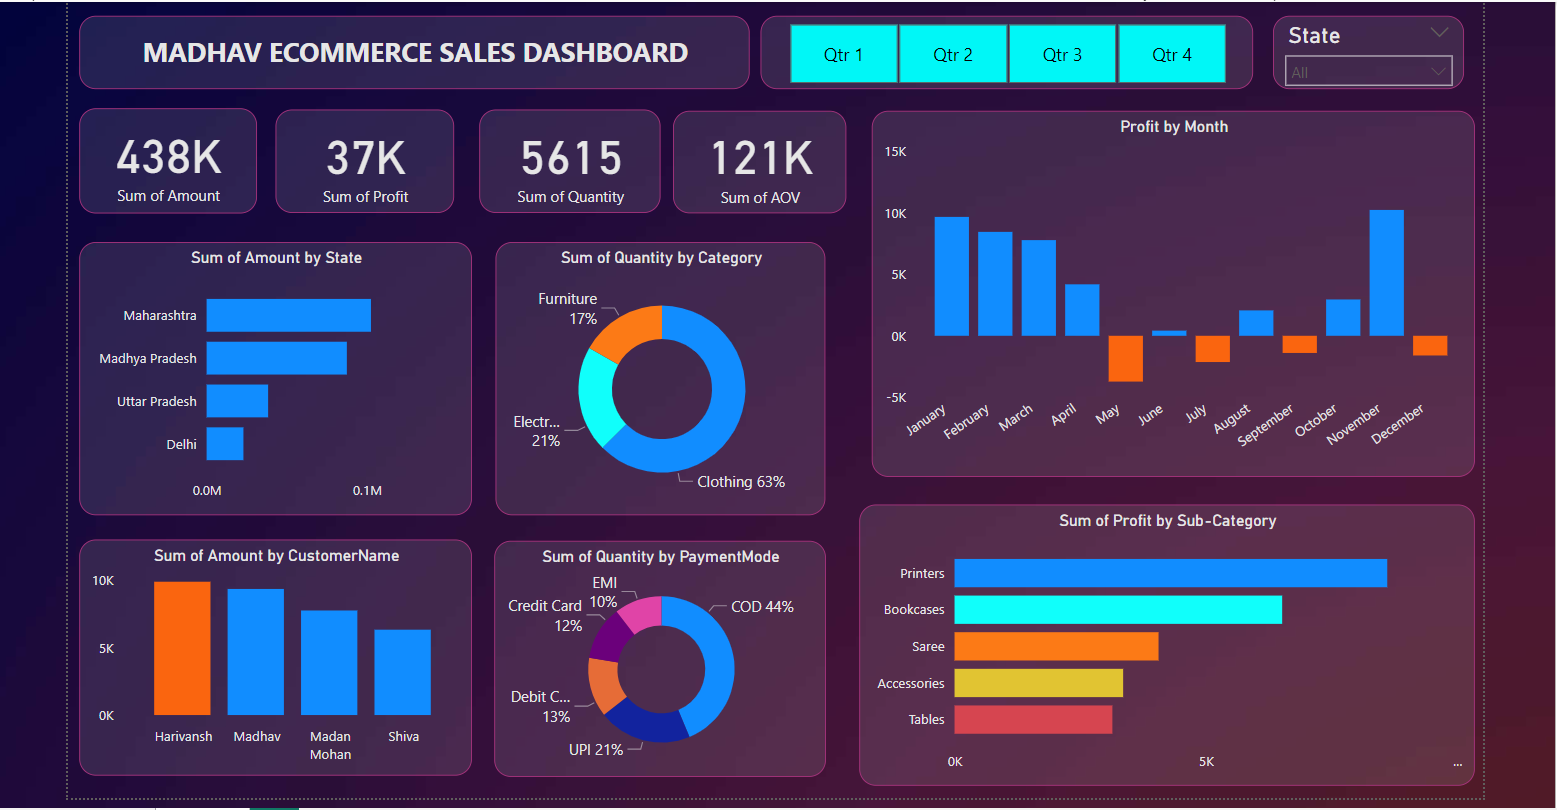

The dashboard page shown, as its layout file describes it:
{"tool":"powerbi","page":{"name":"Page 1","canvas":[1280,720],"ordinal":0},"visuals":[{"type":"textbox","box":[9.9,12.3,606.2,66.7],"z":0},{"type":"columnChart","title":"Profit by Month","fields":{"Category":["Orders.Order Date.Variation.Date Hierarchy.Month"],"Y":["Details.Profit"]},"box":[727.2,98.8,545.7,330.9],"z":1000},{"type":"barChart","fields":{"Category":["Details.Sub-Category"],"Y":["Details.Profit"]},"box":[716,454.3,556.8,254.3],"z":2000},{"type":"donutChart","fields":{"Category":["Details.Category"],"Y":["Details.Quantity"]},"box":[386.4,217.3,298.8,246.9],"z":3000},{"type":"donutChart","fields":{"Y":["Details.Quantity"],"Category":["Details.PaymentMode"]},"box":[385.2,487.7,300,213.6],"z":4000},{"type":"card","fields":{"Values":["Details.Amount"]},"box":[9.9,96.3,160.5,95.1],"z":5000},{"type":"card","fields":{"Values":["Details.Quantity"]},"box":[371.6,97.5,164.2,93.8],"z":6000},{"type":"card","fields":{"Values":["Details.Profit"]},"box":[187.7,97.5,161.7,93.8],"z":7000},{"type":"card","fields":{"Values":["Details.AOV"]},"box":[546.9,98.8,156.8,92.6],"z":8000},{"type":"barChart","fields":{"Category":["Orders.State"],"Y":["Details.Amount"]},"box":[9.9,217.3,355.6,246.9],"z":9000},{"type":"columnChart","fields":{"Category":["Orders.CustomerName"],"Y":["Details.Amount"]},"box":[9.9,486.4,355.6,213.6],"z":10000},{"type":"slicer","fields":{"Values":["Orders.Order Date.Variation.Date Hierarchy.Quarter"]},"box":[625.9,12.3,445.7,66.7],"z":11000},{"type":"slicer","fields":{"Values":["Orders.State"]},"box":[1090.1,12.3,172.8,66.7],"z":12000}]}

Visuals, with their boxes in screenshot pixels (x1, y1, x2, y2):
textbox: (197,62,847,133)
"Profit by Month" columnChart: (966,155,1550,509)
barChart - Details.Sub-Category x Details.Profit: (954,535,1550,808)
donutChart - Details.Category x Details.Quantity: (600,281,921,546)
donutChart - Details.Quantity x Details.PaymentMode: (599,571,921,800)
card - Details.Amount: (197,152,369,254)
card - Details.Quantity: (585,153,761,254)
card - Details.Profit: (388,153,561,254)
card - Details.AOV: (772,155,940,254)
barChart - Orders.State x Details.Amount: (197,281,578,546)
columnChart - Orders.CustomerName x Details.Amount: (197,570,578,799)
slicer - Orders.Order Date.Variation.Date Hierarchy.Quarter: (857,62,1335,133)
slicer - Orders.State: (1354,62,1540,133)
